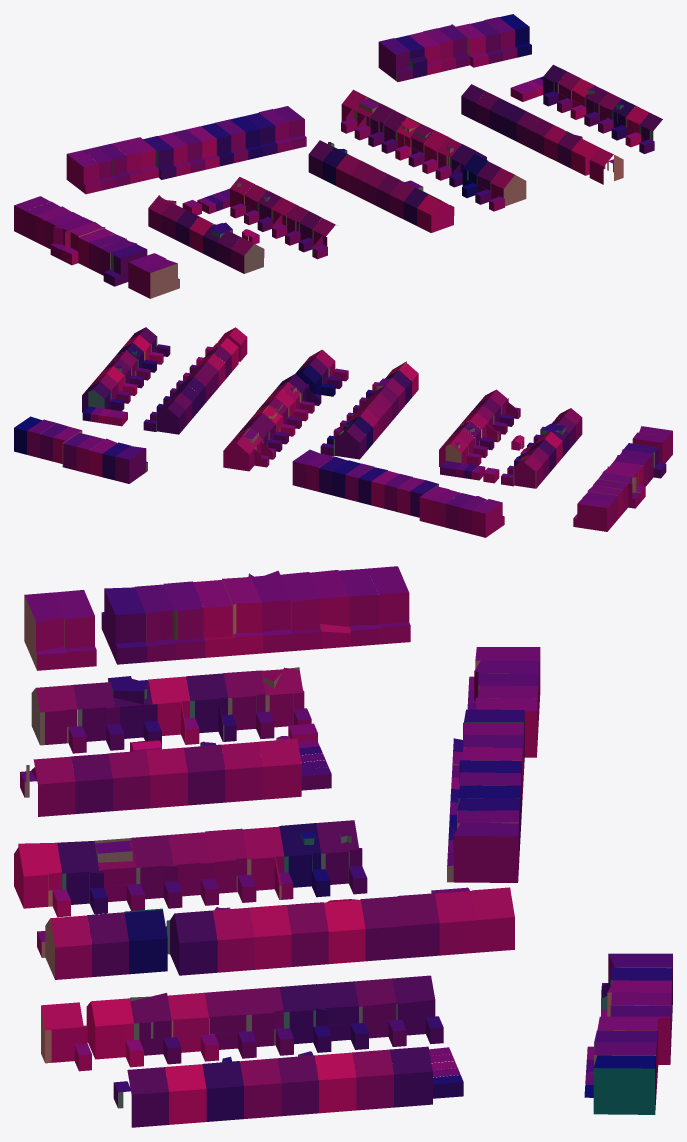
File: buildings_9_4.glb
3 views of the same model, one above another, from view 1: azimuth 30°, elevation 25°; view 2: azimuth 150°, elevation 25°; view 3: azimuth 270°, elevation 25° (orthographic). The views are drawn at different scales.
Visible parts, largest first — view 1: buildings_9_4; view 2: buildings_9_4; view 3: buildings_9_4.
Part boxes in pixels (box(x1,y1,x2,y2)): buildings_9_4: box(14, 14, 662, 298); buildings_9_4: box(14, 327, 672, 537); buildings_9_4: box(14, 566, 672, 1127).
Bounding box in the file's own units: 201 × 9.57 × 109.
